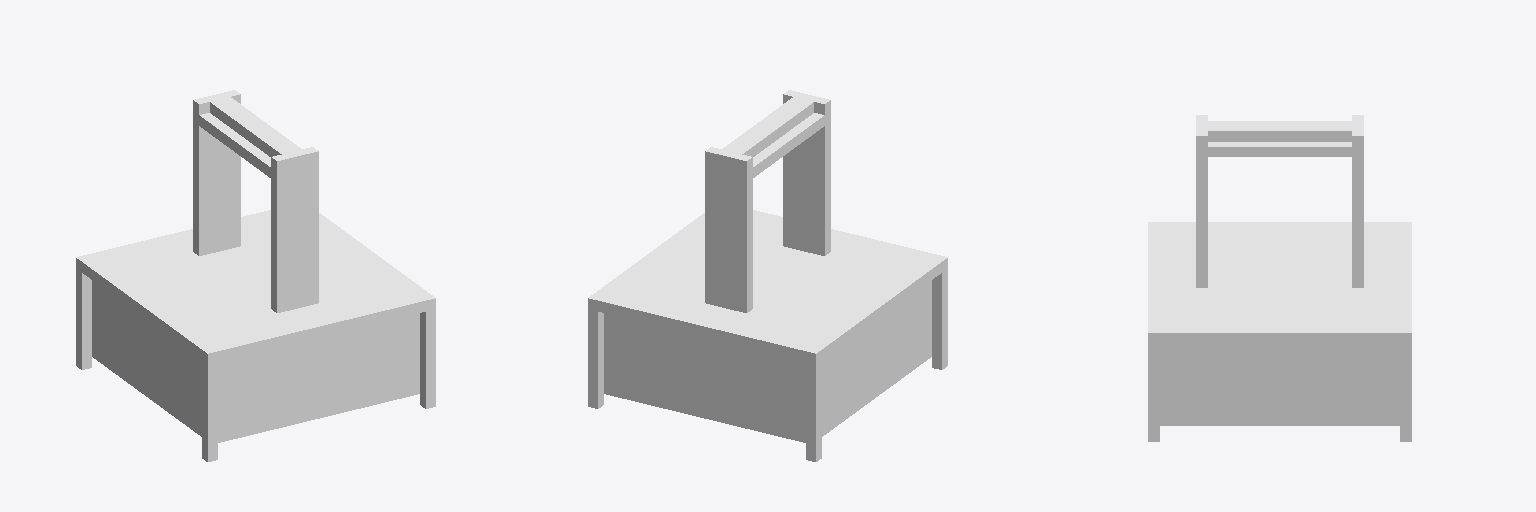
Rendered from washer-2-base.obj.
3 views of the same model, side by side, from view 1: azimuth 30°, elevation 25°; view 2: azimuth 150°, elevation 25°; view 3: azimuth 270°, elevation 25° (orthographic).
Parts seen in each view (by area): view 1: base; view 2: base; view 3: base.
Part boxes in pixels (x1,y1,x2,y2): base: (76,90,435,461); base: (588,90,947,461); base: (1148,115,1411,441).
Bounding box in the file's own units: 2.2 × 2.4 × 2.2.